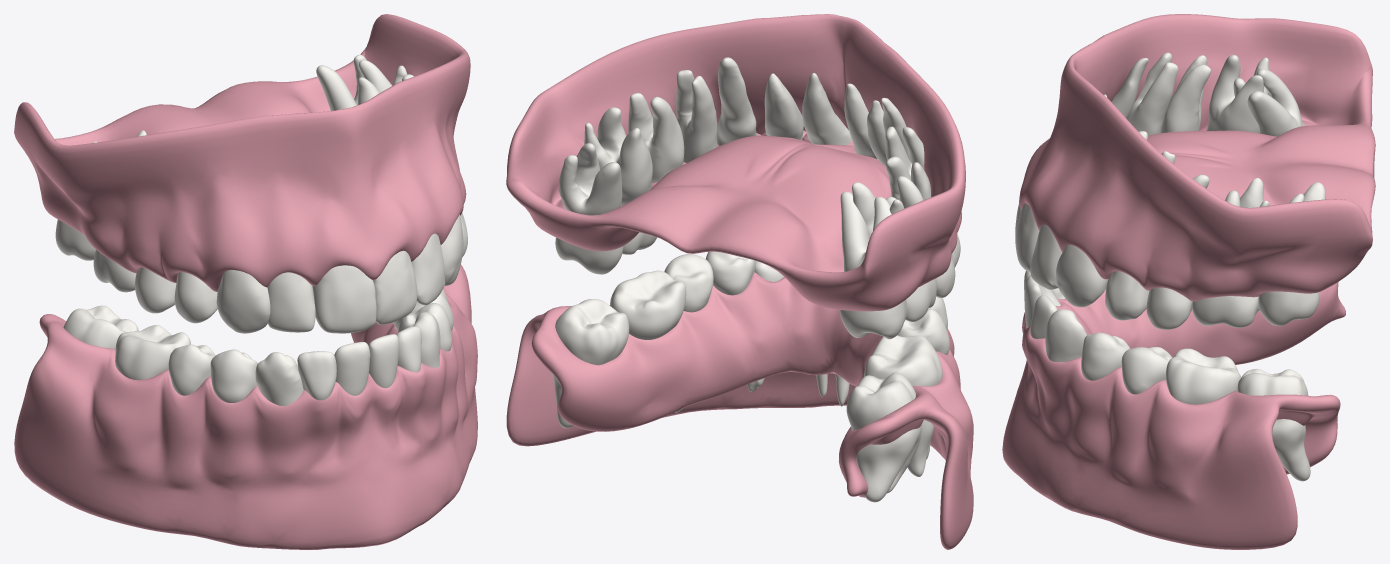
Rendered from teeth_library.glb.
3 views of the same model, side by side, from view 1: azimuth 30°, elevation 25°; view 2: azimuth 150°, elevation 25°; view 3: azimuth 270°, elevation 25° (orthographic). The views are drawn at different scales.
Parts seen in each view (by area): view 1: gum_upper, gum_lower, 9, 45, 11, 10, 21, 46, 43, 42, 44, 12 (+13 smaller); view 2: gum_upper, gum_lower, 28, 27, 46, 37, 16, 45, 38, 26, 23, 21 (+15 smaller); view 3: gum_upper, gum_lower, 37, 28, 16, 38, 23, 27, 14, 12, 15, 36 (+12 smaller).
Part boxes in pixels (x1,y1,x2,y2): gum_upper: [14, 14, 470, 292]; gum_lower: [14, 265, 477, 549]; 9: [316, 265, 376, 333]; 45: [115, 325, 190, 380]; 11: [216, 270, 270, 333]; 10: [267, 272, 315, 332]; 21: [373, 250, 417, 324]; 46: [63, 305, 138, 348]; 43: [210, 349, 257, 402]; 42: [255, 352, 303, 406]; 44: [168, 344, 215, 395]; 12: [174, 272, 217, 323]; gum_upper: [506, 14, 965, 311]; gum_lower: [506, 272, 973, 549]; 28: [584, 107, 656, 254]; 27: [555, 155, 623, 274]; 46: [846, 372, 921, 462]; 37: [610, 270, 686, 339]; 16: [840, 191, 907, 339]; 45: [864, 335, 942, 476]; 38: [551, 299, 629, 376]; 26: [628, 93, 684, 183]; 23: [717, 57, 756, 145]; 21: [802, 73, 852, 145]; gum_upper: [1019, 14, 1375, 301]; gum_lower: [1002, 282, 1345, 549]; 37: [1166, 348, 1240, 404]; 28: [1192, 178, 1269, 327]; 16: [1233, 69, 1304, 136]; 38: [1237, 368, 1308, 450]; 23: [1056, 131, 1147, 307]; 27: [1258, 182, 1325, 326]; 14: [1161, 64, 1211, 133]; 12: [1127, 62, 1178, 135]; 15: [1207, 57, 1269, 133]; 36: [1121, 347, 1172, 394].
Size of the model in its own units: 1.18 by 1.07 by 0.9035.
